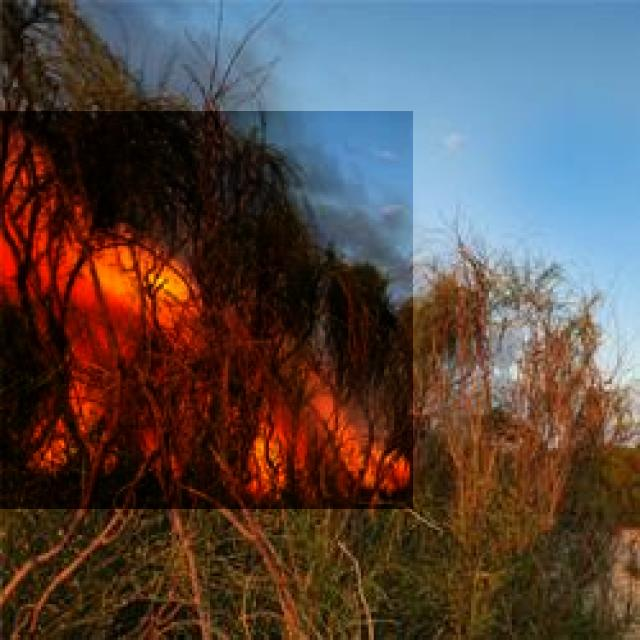Fire: (0, 111, 413, 509)
